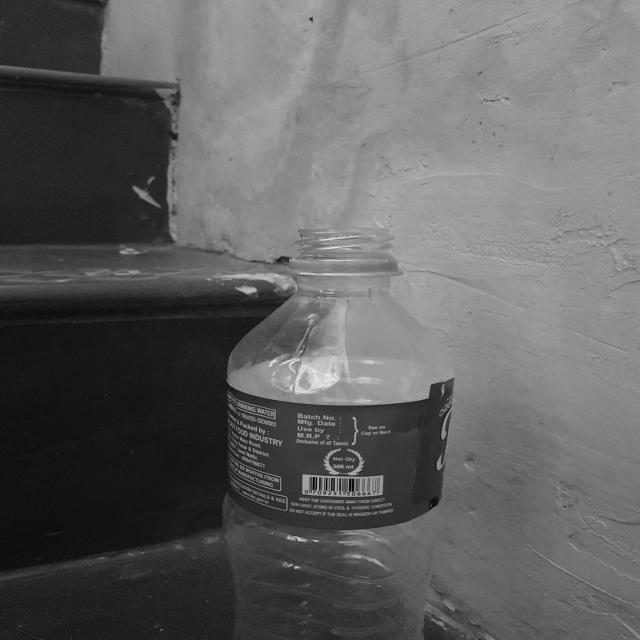open-cap: (289, 226, 398, 274)
